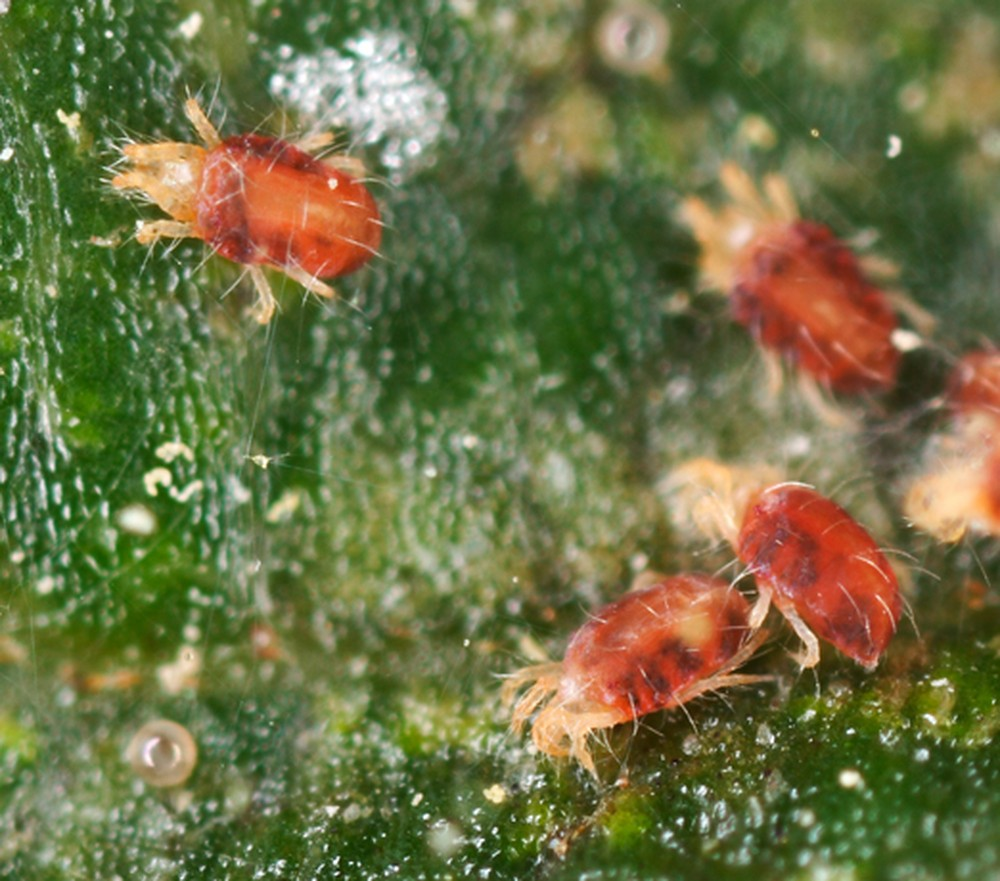Aracnido Rojo: (88, 61, 439, 352), (657, 143, 935, 417), (489, 535, 786, 767), (703, 450, 941, 703)
